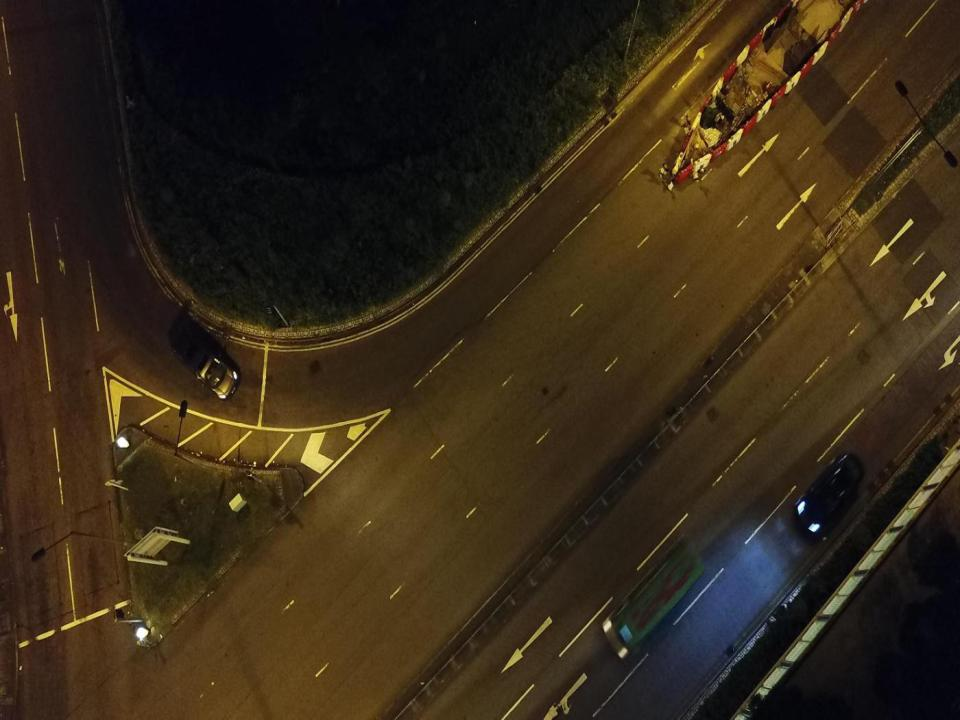bus: (601, 531, 706, 660)
car: (795, 449, 867, 538), (170, 325, 240, 400)
